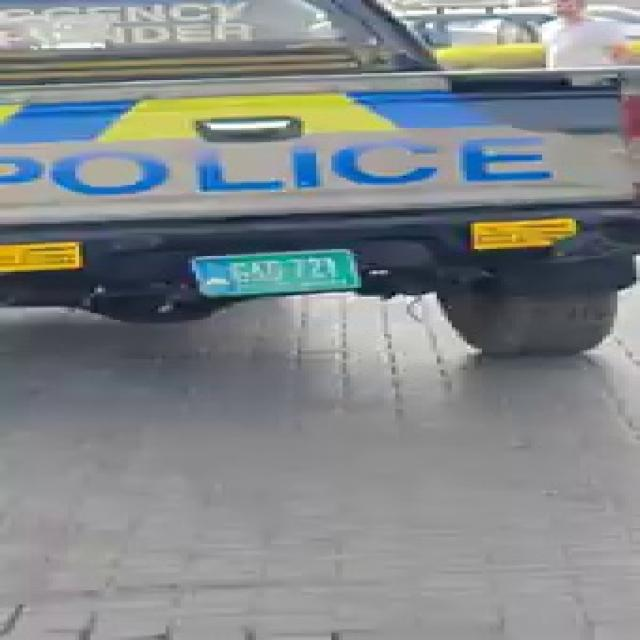police: (0, 3, 617, 320)
